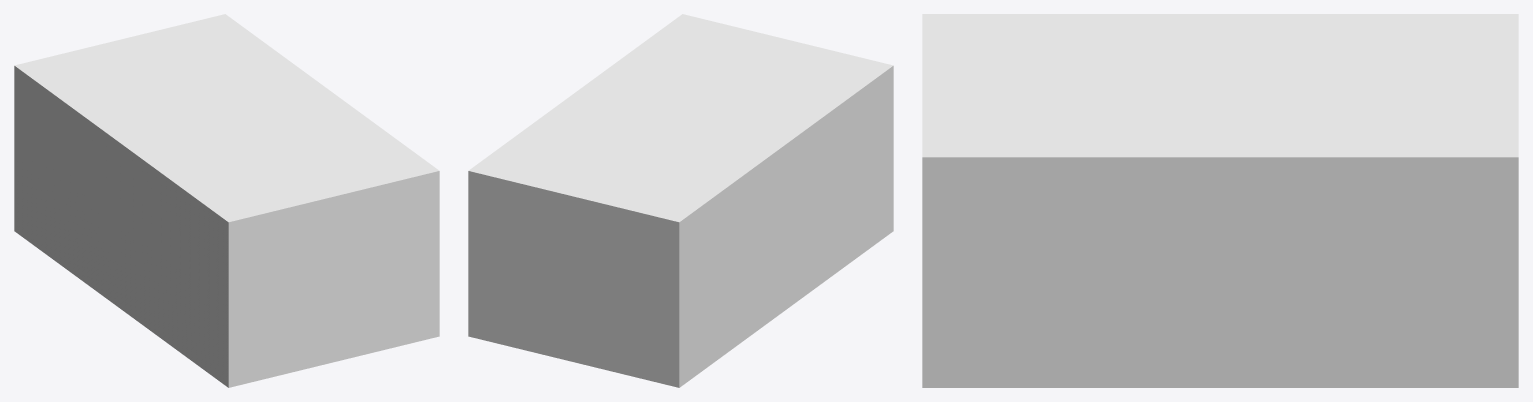
File: 86_COL.glb
3 views of the same model, side by side, from view 1: azimuth 30°, elevation 25°; view 2: azimuth 150°, elevation 25°; view 3: azimuth 270°, elevation 25° (orthographic). The views are drawn at different scales.
Visible parts, largest first — view 1: FRAME_ROOT; view 2: FRAME_ROOT; view 3: FRAME_ROOT.
Part boxes in pixels (x1,y1,x2,y2): FRAME_ROOT: [14, 14, 439, 387]; FRAME_ROOT: [468, 14, 893, 387]; FRAME_ROOT: [922, 14, 1518, 387].
Size of the model in its own units: 4.74 by 3.55 by 8.33.
1 material, 1 textured.
